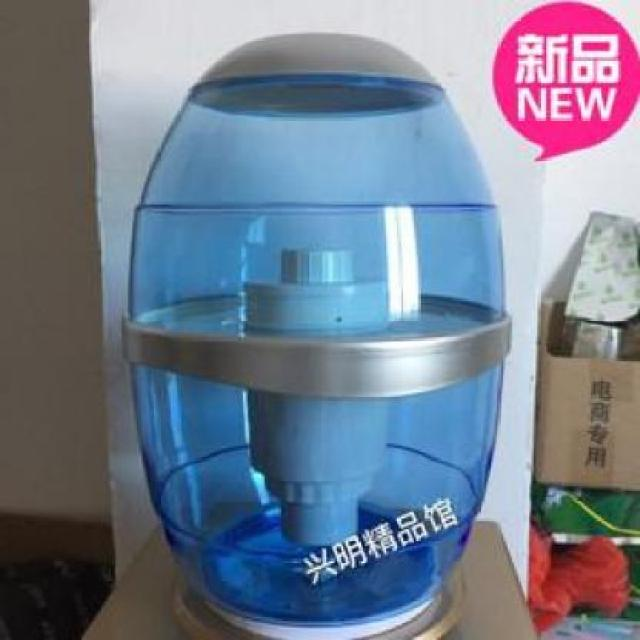coolerbottle: (120, 29, 515, 640)
